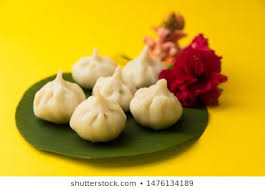modak: (74, 89, 130, 143), (132, 80, 190, 125), (38, 76, 88, 121), (115, 46, 168, 88), (71, 52, 124, 85)
